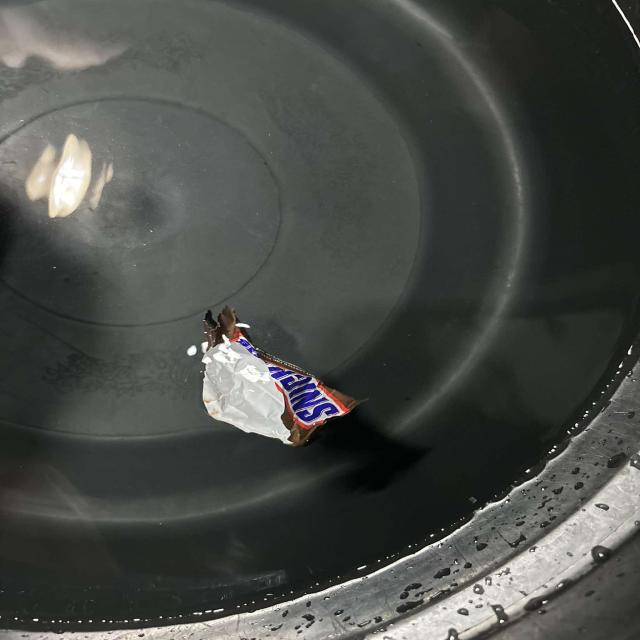Plastic Wrapper: (180, 300, 363, 467)
